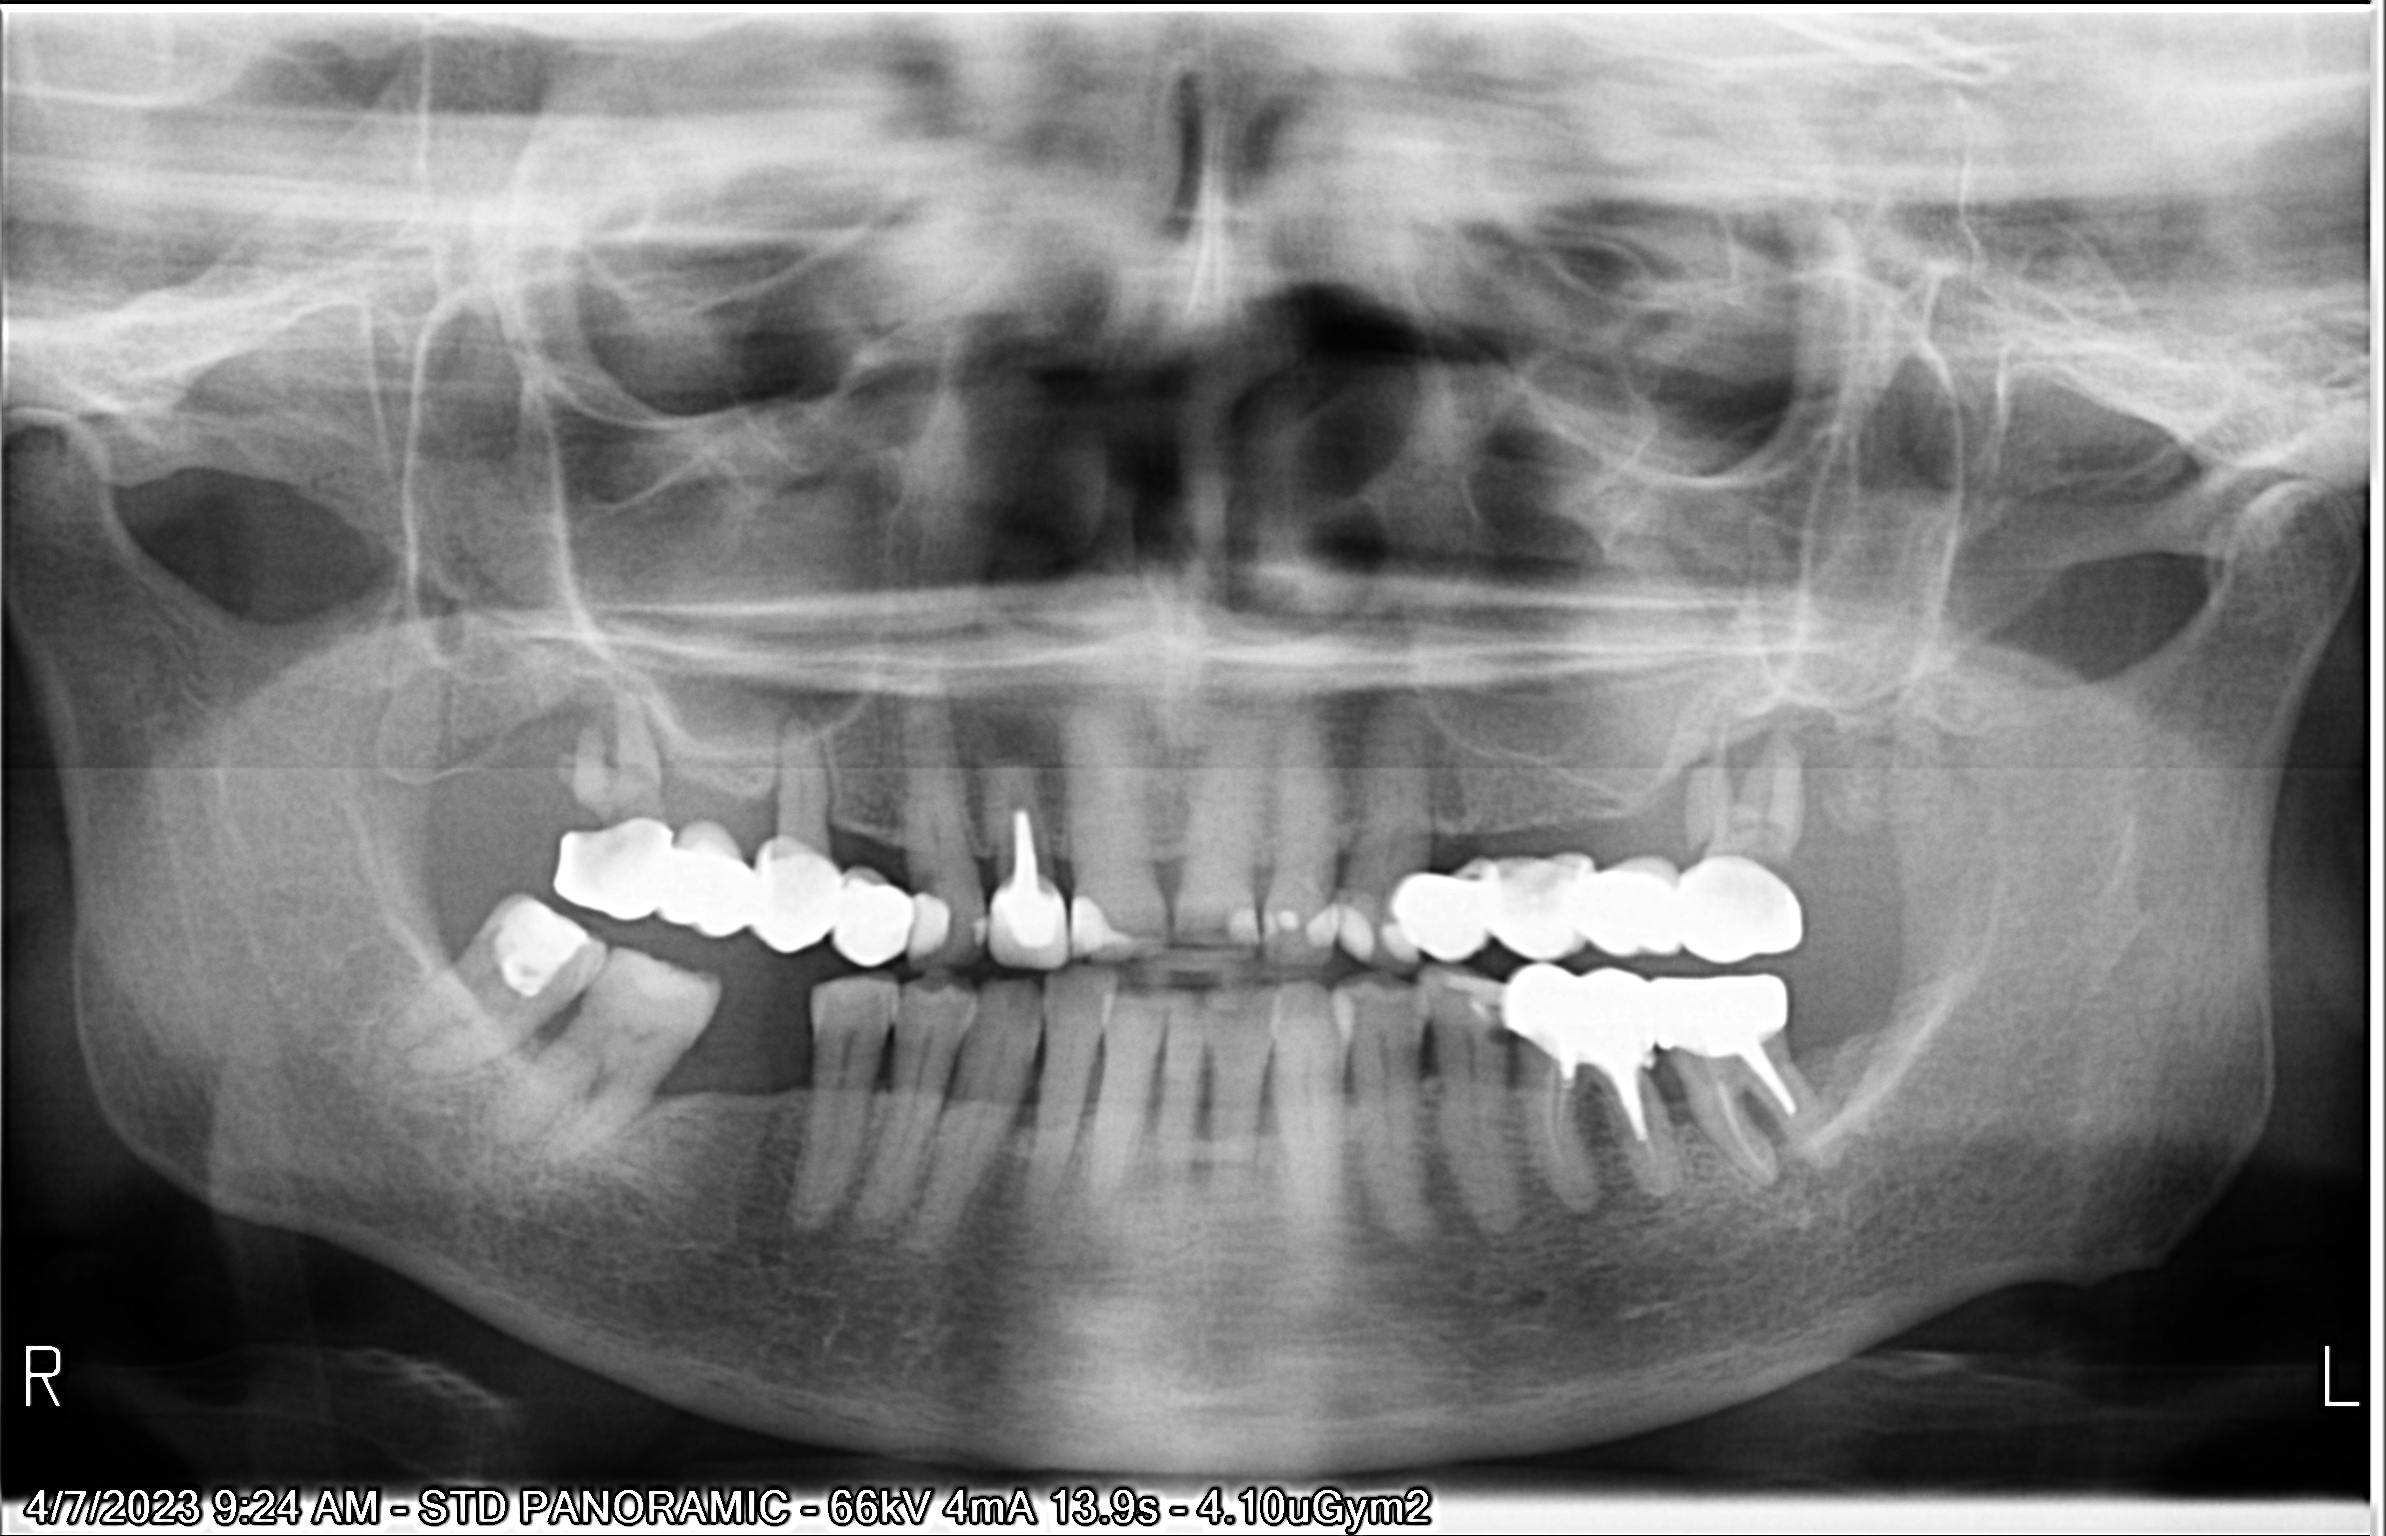API: (969, 720, 1061, 880)
END: (1692, 1011, 1847, 1190), (1523, 1007, 1661, 1172)
OBT: (463, 880, 586, 997), (1024, 880, 1156, 957), (1275, 901, 1393, 974), (1214, 892, 1283, 971), (1310, 885, 1337, 967)
PRR: (532, 783, 913, 965), (1370, 835, 1829, 971), (1430, 957, 1835, 1063), (986, 872, 1075, 962)
